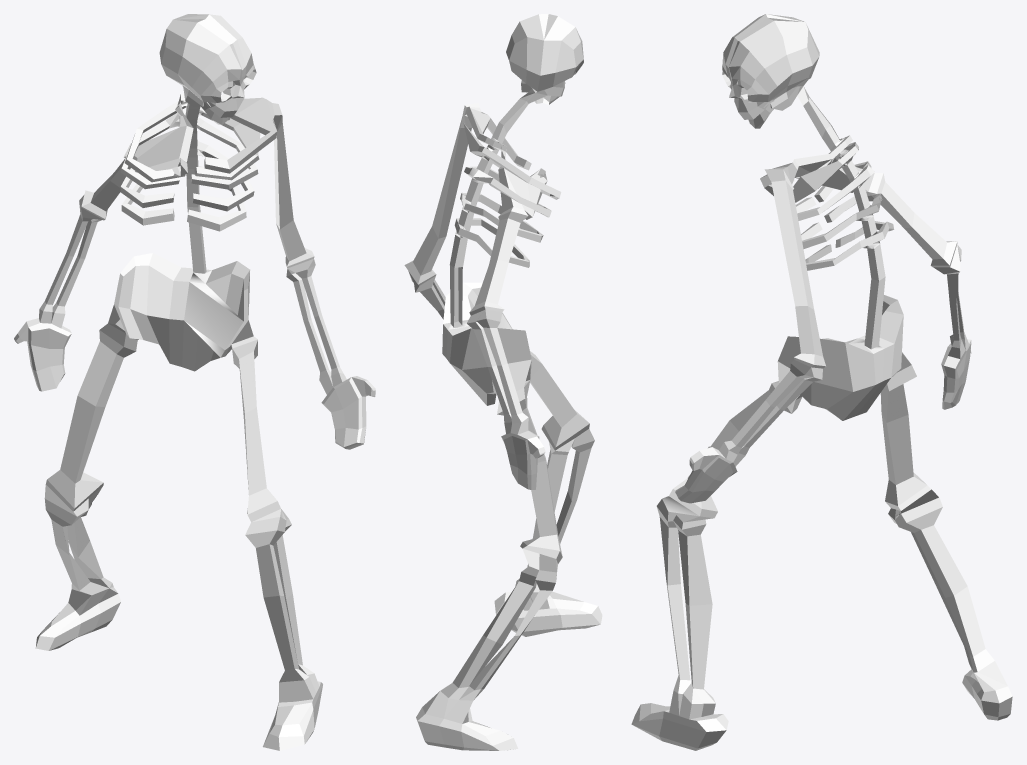
The model's file is SkeletonIdle(14).obj.
3 views of the same model, side by side, from view 1: azimuth 30°, elevation 25°; view 2: azimuth 150°, elevation 25°; view 3: azimuth 270°, elevation 25° (orthographic). The views are drawn at different scales.
Parts seen in each view (by area): view 1: Object002; view 2: Object002; view 3: Object002.
Boxes of the visible parts, x1=… form: Object002: x1=14, y1=14, x2=375, y2=750; Object002: x1=404, y1=14, x2=602, y2=750; Object002: x1=631, y1=14, x2=1012, y2=750.
Bounding box in the file's own units: 386 × 1122 × 556.
